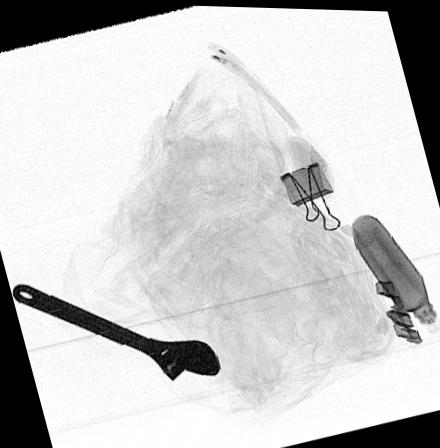Wrench: (11, 282, 220, 382)
